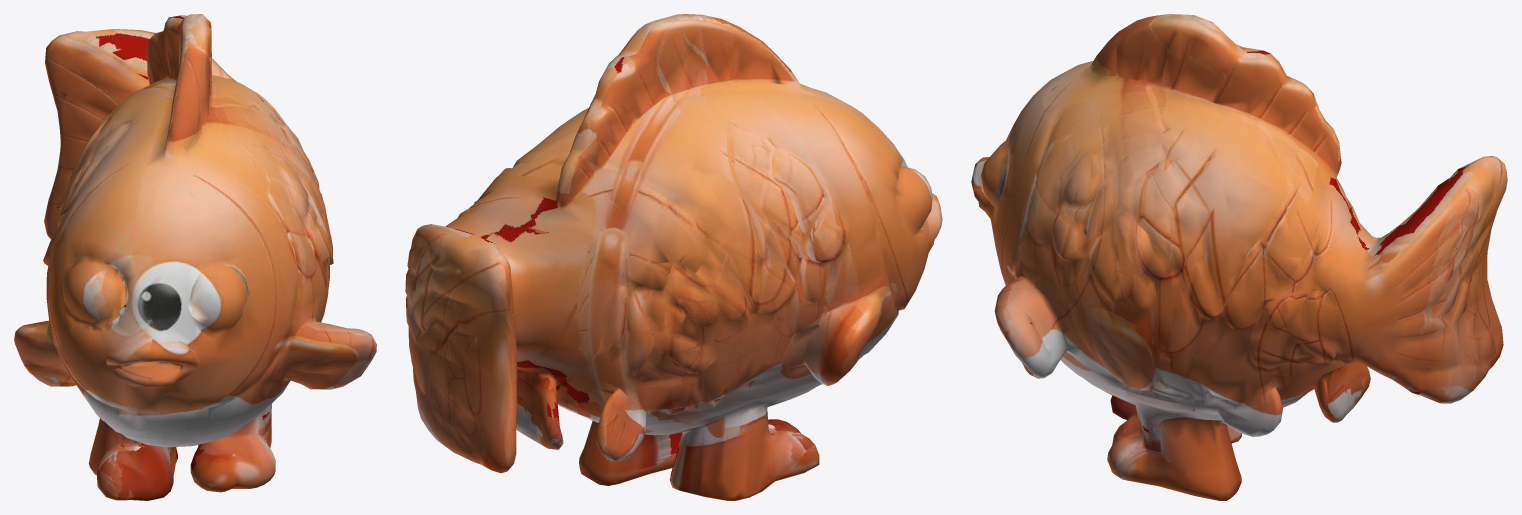
The model's file is fish.glb.
3 views of the same model, side by side, from view 1: azimuth 30°, elevation 25°; view 2: azimuth 150°, elevation 25°; view 3: azimuth 270°, elevation 25° (orthographic). The views are drawn at different scales.
Parts seen in each view (by area): view 1: Body; view 2: Body; view 3: Body.
Boxes of the visible parts, x1,y1,x2,y2 form: Body: (14,14,376,500); Body: (405,14,942,500); Body: (971,14,1507,500).
Size of the model in its own units: 0.7116 by 0.8841 by 0.9548.
1 material, 1 textured.
